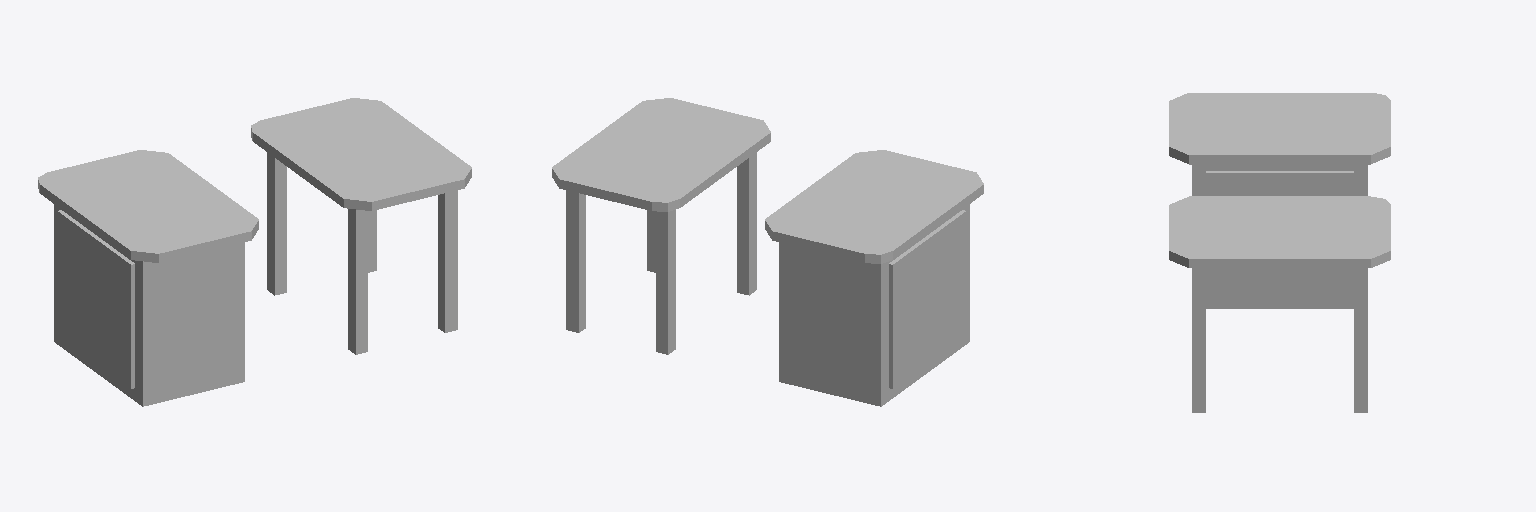
File: table1.obj
3 views of the same model, side by side, from view 1: azimuth 30°, elevation 25°; view 2: azimuth 150°, elevation 25°; view 3: azimuth 270°, elevation 25° (orthographic).
Visible parts, largest first — view 1: object_11, object_5, object_8, object_7, object_6, object_4, object_2, object_3, object_1; view 2: object_11, object_5, object_8, object_6, object_7, object_3, object_1, object_4, object_2; view 3: object_8, object_5, object_9, object_10, object_11, object_1, object_2.
Part boxes in pixels (x1,y1,x2,y2): object_11: (54, 204, 244, 406); object_5: (251, 98, 471, 210); object_8: (38, 150, 258, 262); object_7: (94, 237, 134, 388); object_6: (57, 210, 97, 361); object_4: (348, 209, 367, 354); object_2: (438, 190, 457, 332); object_3: (267, 152, 286, 295); object_1: (368, 210, 376, 272); object_11: (779, 204, 969, 406); object_5: (552, 98, 770, 211); object_8: (765, 150, 983, 263); object_6: (889, 237, 929, 388); object_7: (926, 210, 966, 361); object_3: (656, 210, 675, 354); object_1: (566, 190, 585, 332); object_4: (737, 152, 756, 295); object_2: (647, 210, 655, 272); object_8: (1169, 93, 1390, 164); object_5: (1169, 196, 1390, 267); object_9: (1280, 171, 1353, 297); object_10: (1206, 171, 1279, 297); object_11: (1192, 165, 1367, 308); object_1: (1354, 268, 1367, 412); object_2: (1192, 268, 1205, 412).
Size of the model in its own units: 6.7 by 3 by 3.78.